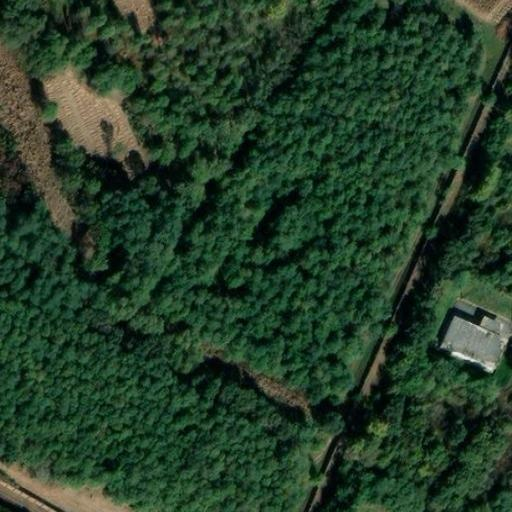building: (436, 319, 501, 371)
